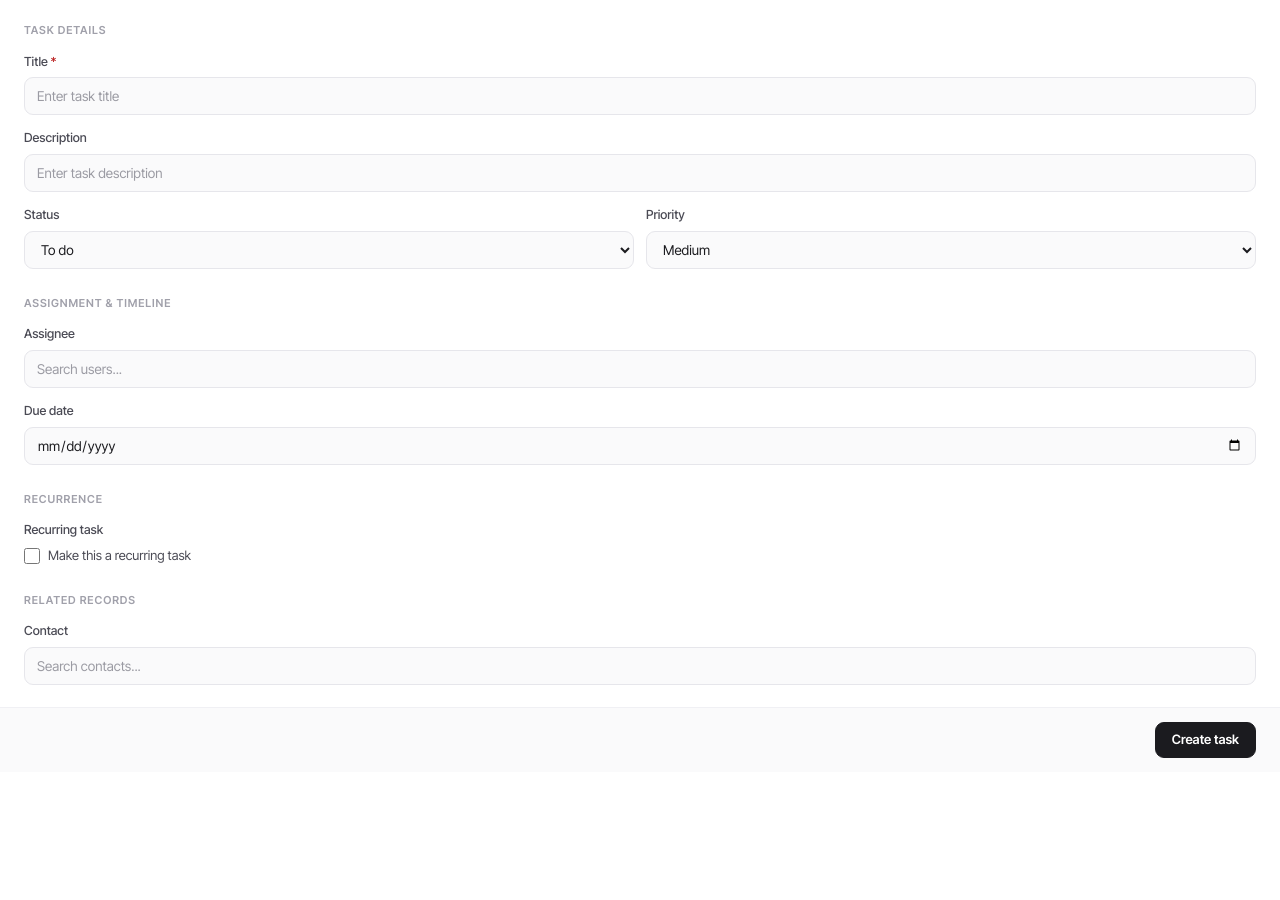
Test case: TaskForm › renders service errors and the fallback message for non-Error failures
The width and height of the screenshot is (1280, 900).
Type "New task" into the field with placeholder "Enter task title" at (640, 96), box [24,77,1256,115]
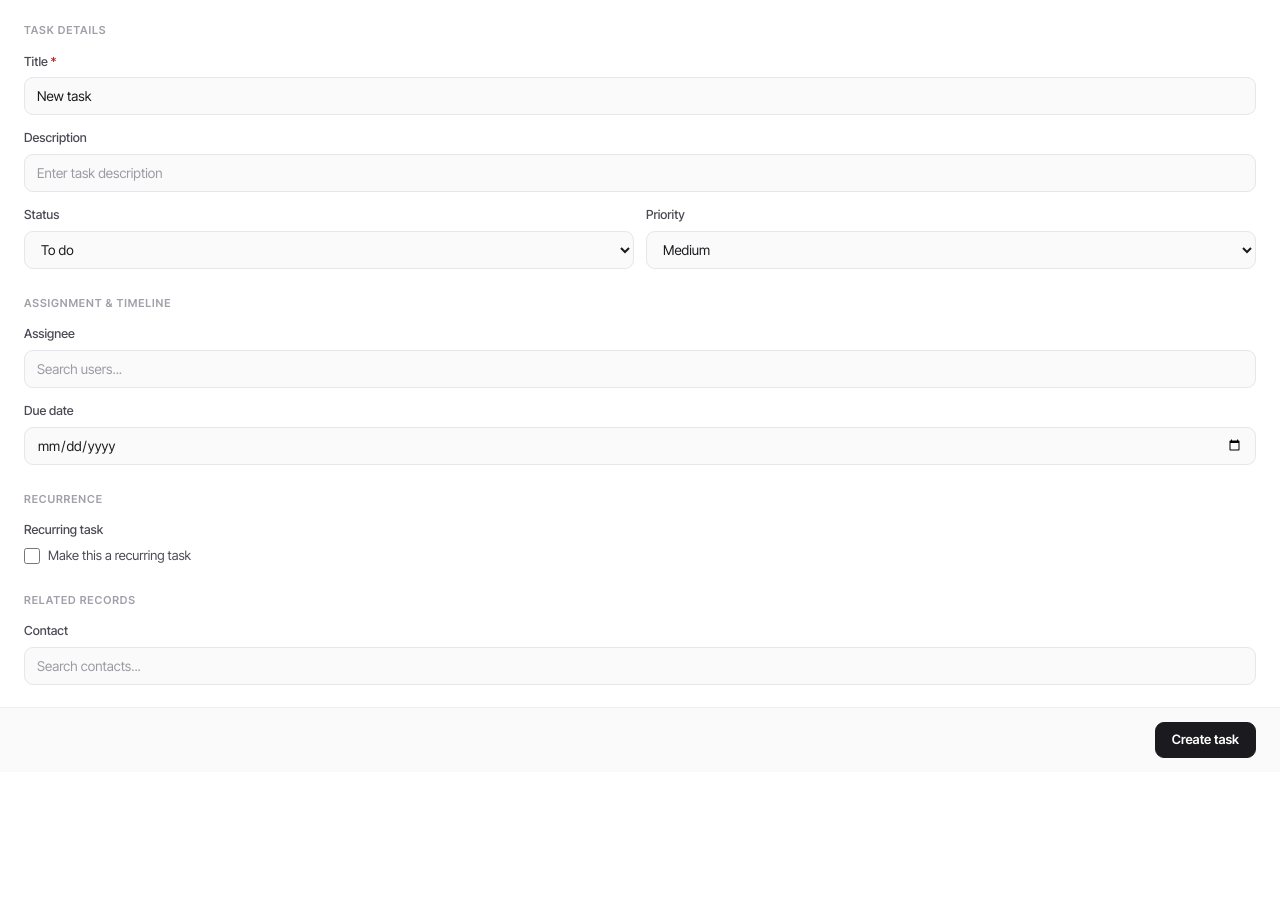
Click the button "Create task" at (1205, 740), box [1155,722,1256,758]
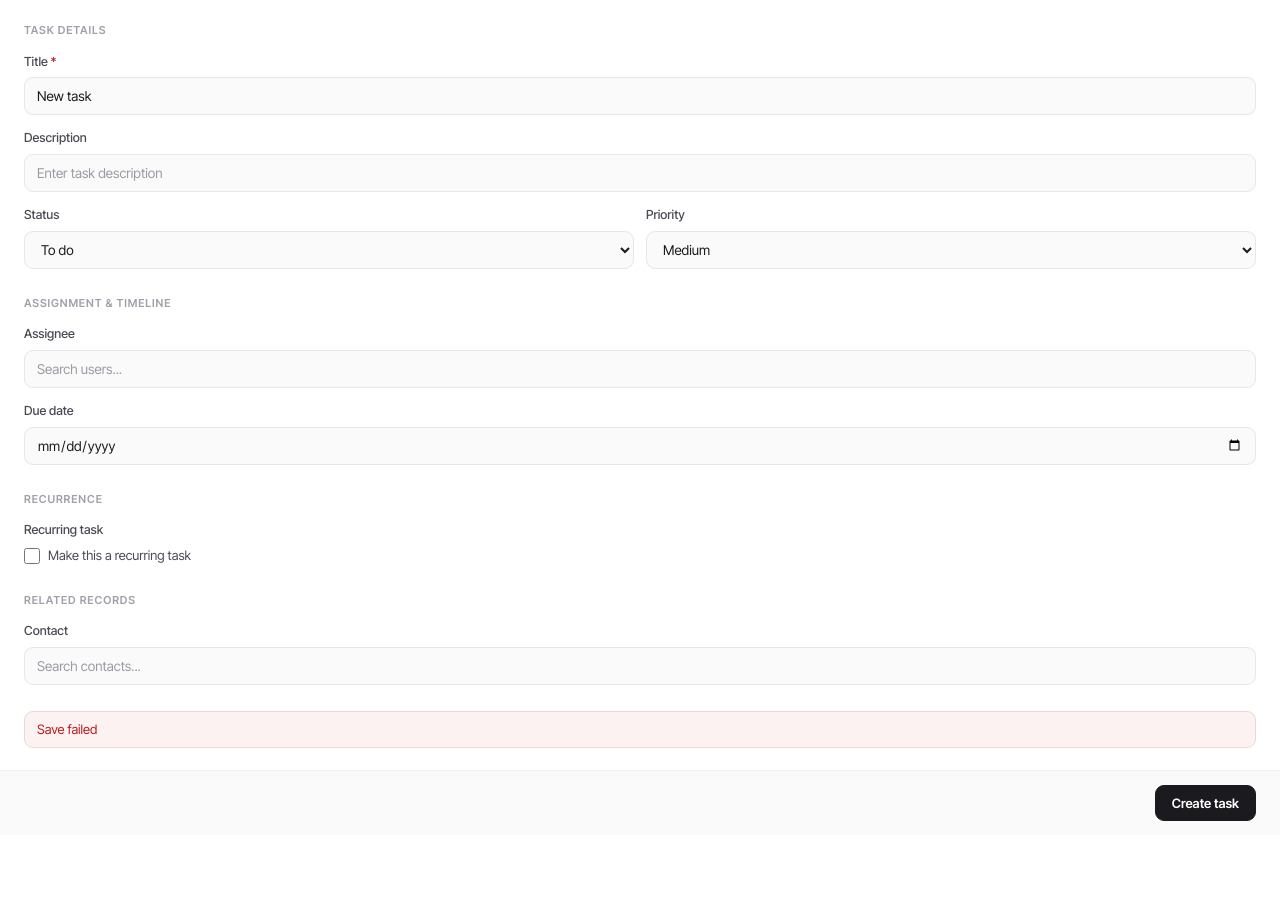
Expected: the message reads "Save failed", [37,721,97,737]
Replace the text in the field with placeholder "Enter task title" with "Retry task" at (640, 96), box [24,77,1256,115]
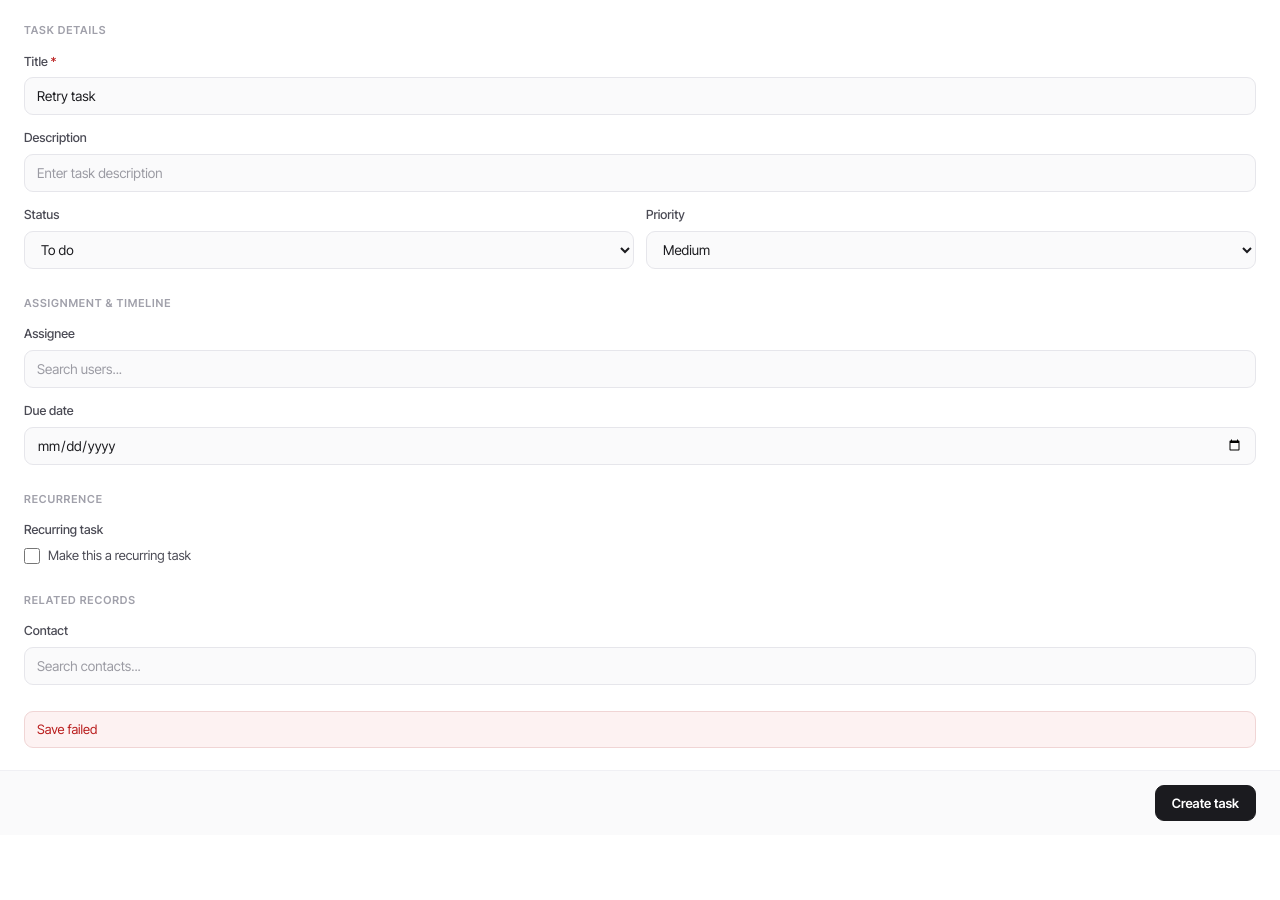
Click the button "Create task" at (1205, 803), box [1155,785,1256,821]
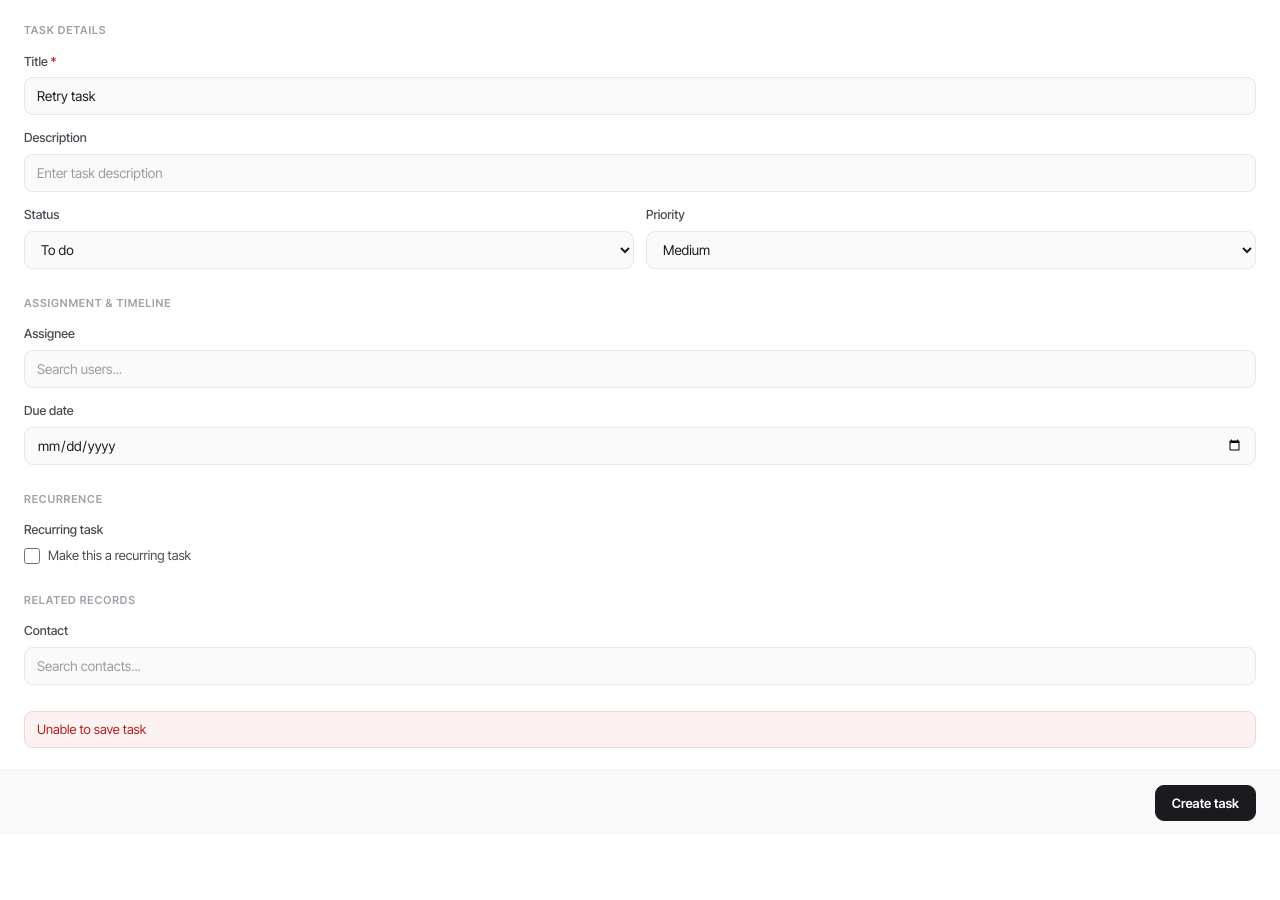
Expected: the message reads "Unable to save task", [37,721,146,737]
